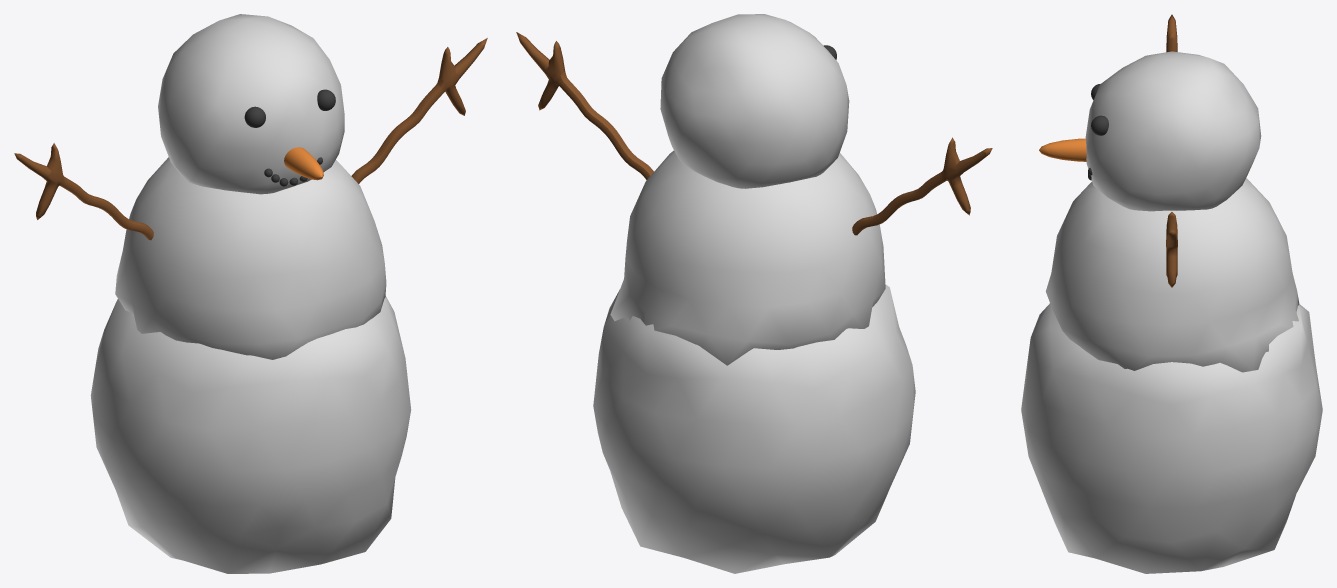
File: snowman.fbx
The picture shows the model from 3 angles, left to right: view 1: azimuth 30°, elevation 25°; view 2: azimuth 150°, elevation 25°; view 3: azimuth 270°, elevation 25°; orthographic projection. The views are drawn at different scales.
Parts seen in each view (by area): view 1: Snow Man; view 2: Snow Man; view 3: Snow Man.
Part boxes in pixels (x1,y1,x2,y2): Snow Man: (14, 14, 487, 573); Snow Man: (516, 14, 992, 573); Snow Man: (1021, 14, 1322, 573).
Bounding box in the file's own units: 6.79 × 7.21 × 4.
